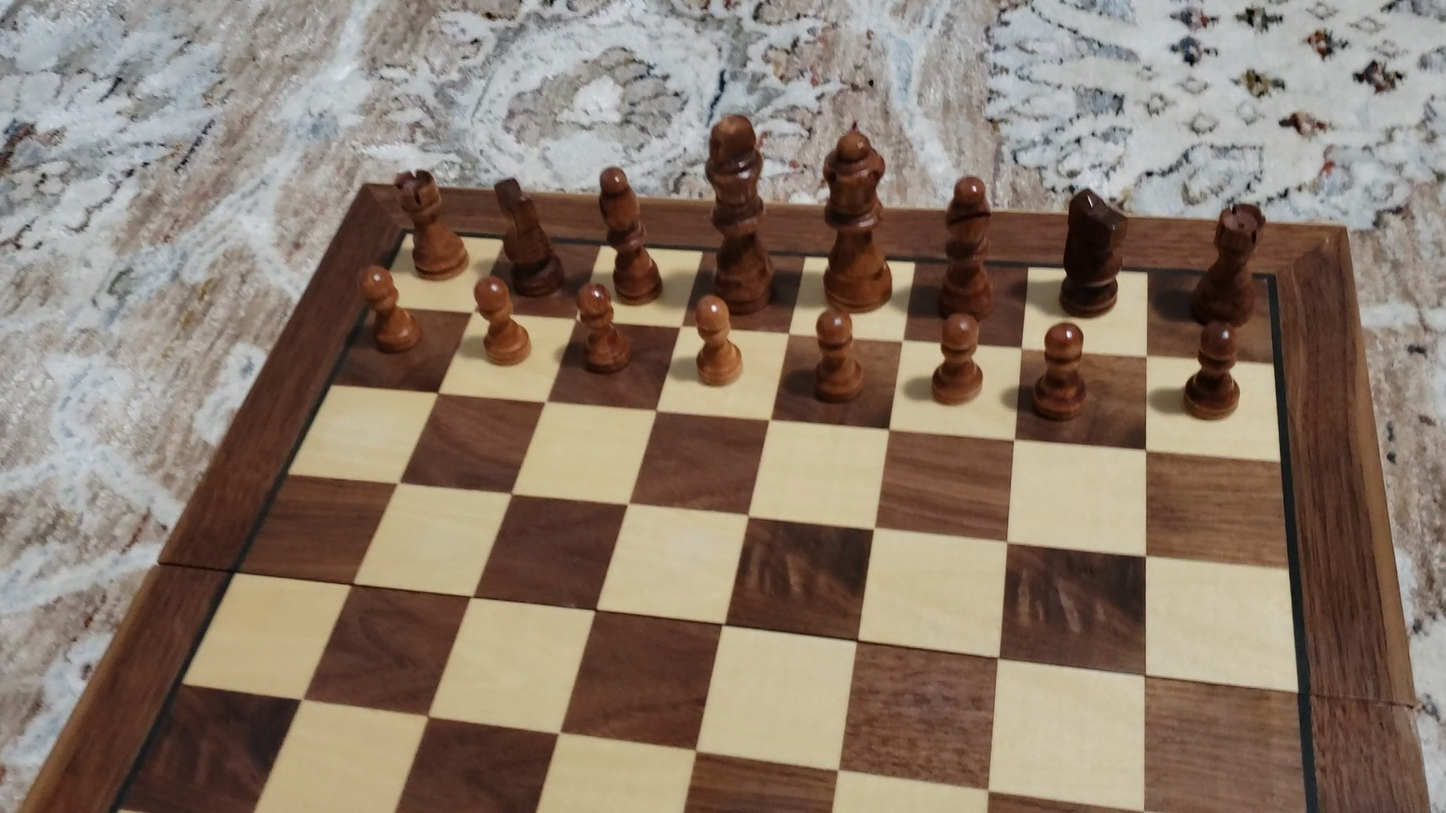black-bishop: (597, 163, 662, 304), (938, 172, 994, 321)
black-king: (700, 108, 778, 314)
black-knight: (1057, 185, 1131, 317), (493, 173, 563, 296)
black-pawn: (1182, 320, 1245, 423), (355, 262, 421, 357), (1030, 320, 1090, 423), (472, 275, 532, 369), (573, 279, 630, 376), (930, 311, 985, 408), (812, 307, 865, 405), (691, 292, 742, 388)
black-queen: (816, 116, 894, 312)
black-rook: (1187, 200, 1265, 326), (393, 167, 469, 280)
